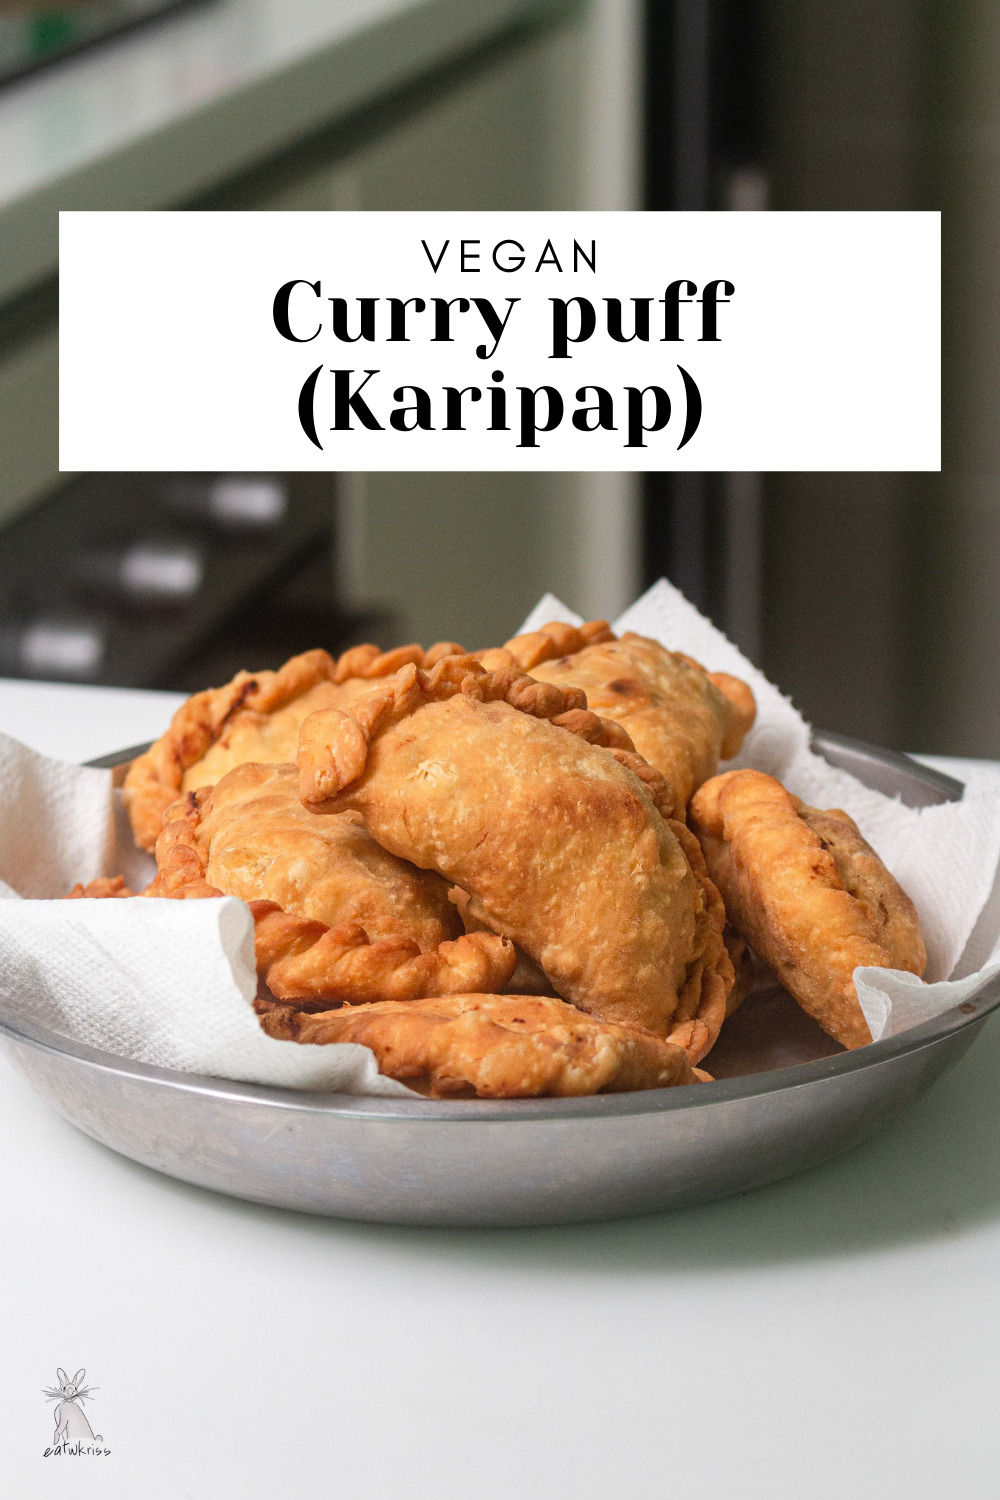Curry Puff: (283, 653, 721, 1048), (689, 751, 927, 1051)
